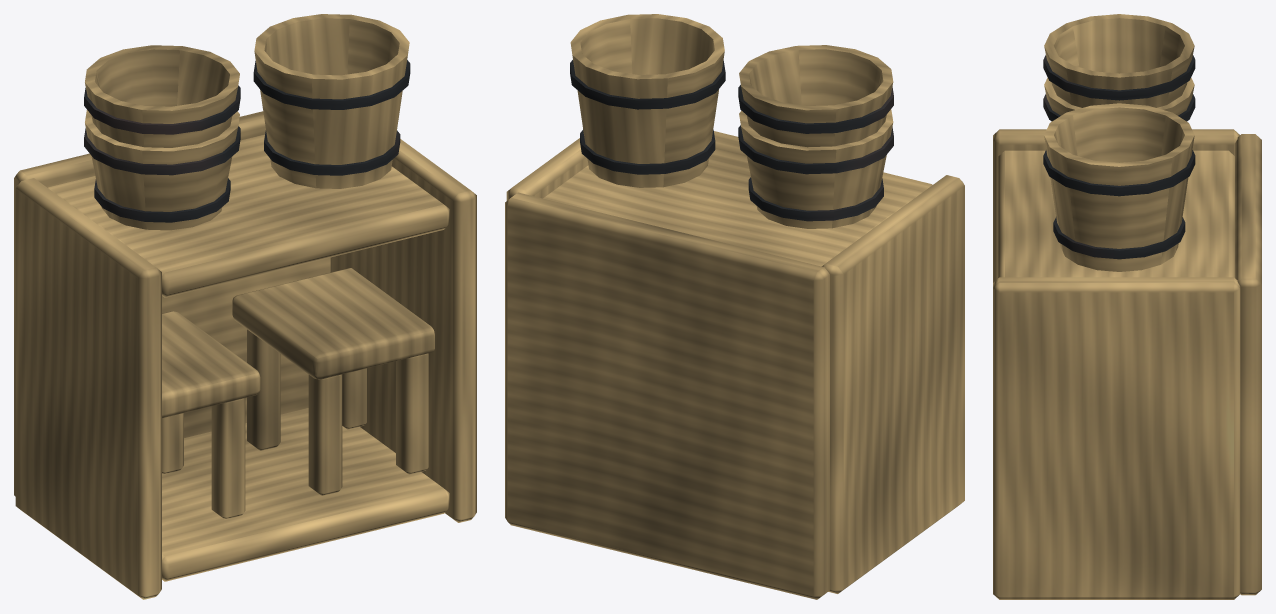
Rendered from Furn_Bath_BucketStack.fbx.
3 views of the same model, side by side, from view 1: azimuth 30°, elevation 25°; view 2: azimuth 150°, elevation 25°; view 3: azimuth 270°, elevation 25° (orthographic). The views are drawn at different scales.
Parts seen in each view (by area): view 1: Furn_Bath_BucketStack; view 2: Furn_Bath_BucketStack; view 3: Furn_Bath_BucketStack.
Part boxes in pixels (<box>): Furn_Bath_BucketStack: <box>14,14,476,599</box>; Furn_Bath_BucketStack: <box>505,14,964,599</box>; Furn_Bath_BucketStack: <box>993,14,1261,599</box>.
Bounding box in the file's own units: 0.7 × 0.9 × 0.5.
2 materials, 2 textured.
